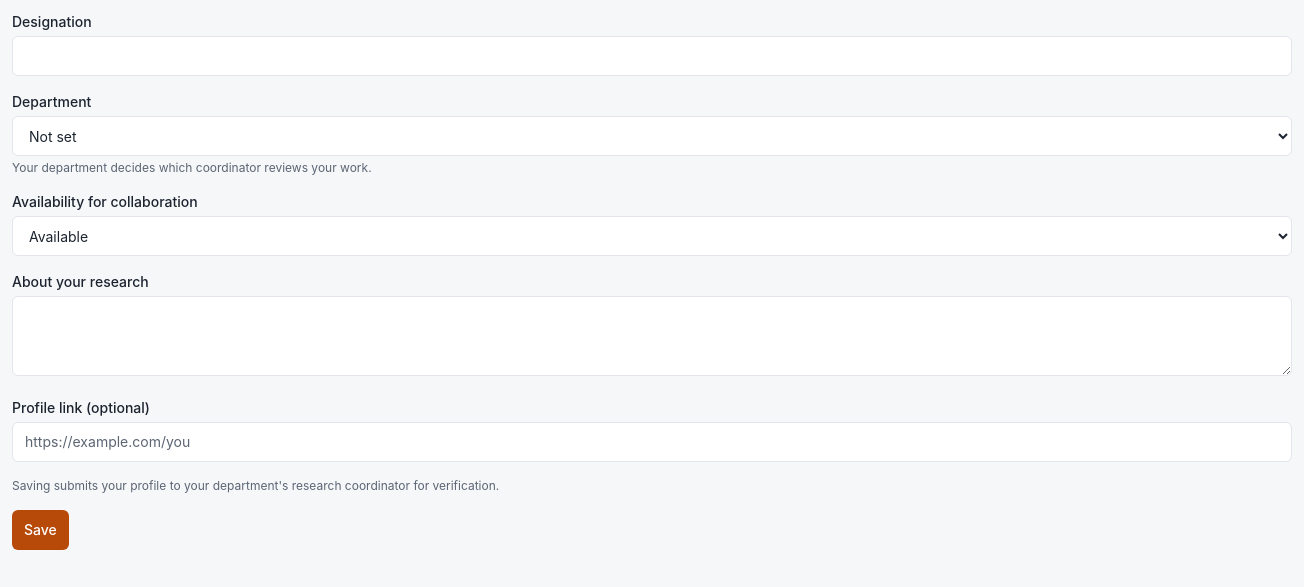
it: ProfileForm › renders researcher fields for faculty and rejects a malformed link
Type "Assistant Professor" into the field labelled "Designation" at {"x": 652, "y": 56}, box 12,36 -> 1292,76
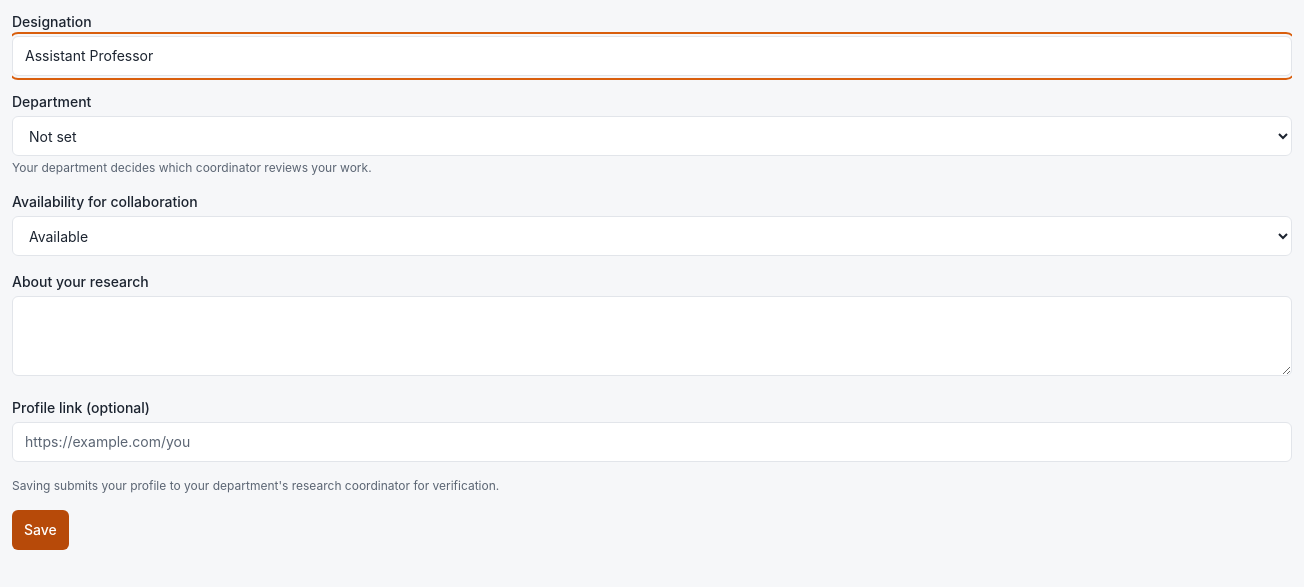
Type "not-a-url" into the field labelled "Profile link (optional)" at {"x": 652, "y": 442}, box 12,422 -> 1292,462
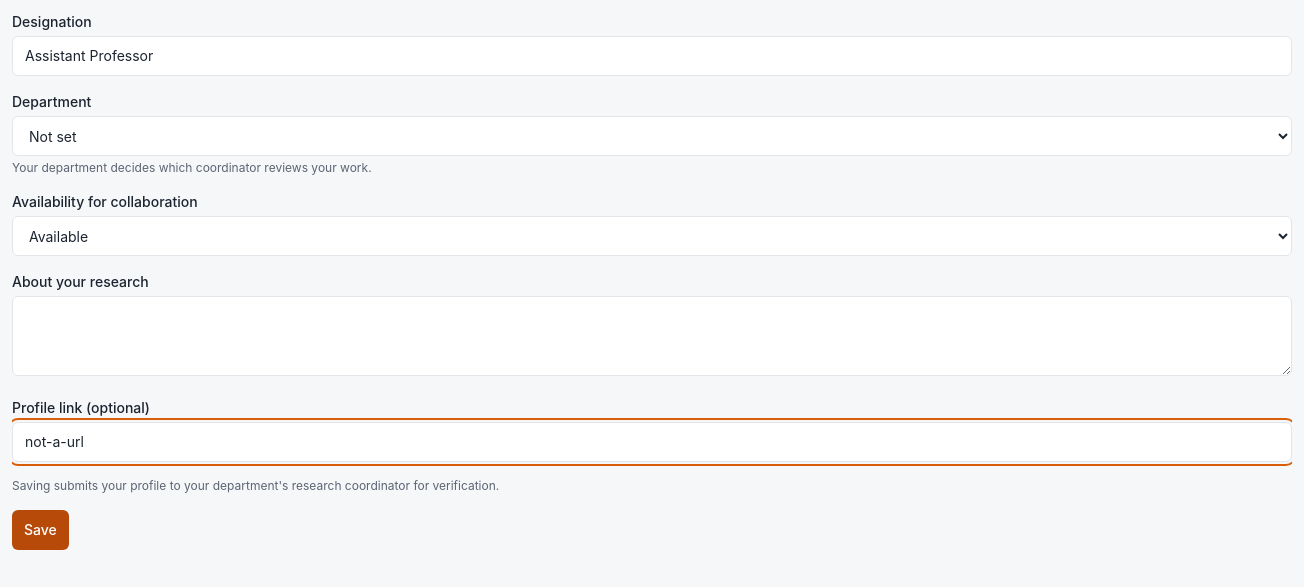
Click the button "Save" at {"x": 40, "y": 530}, box 12,510 -> 69,550
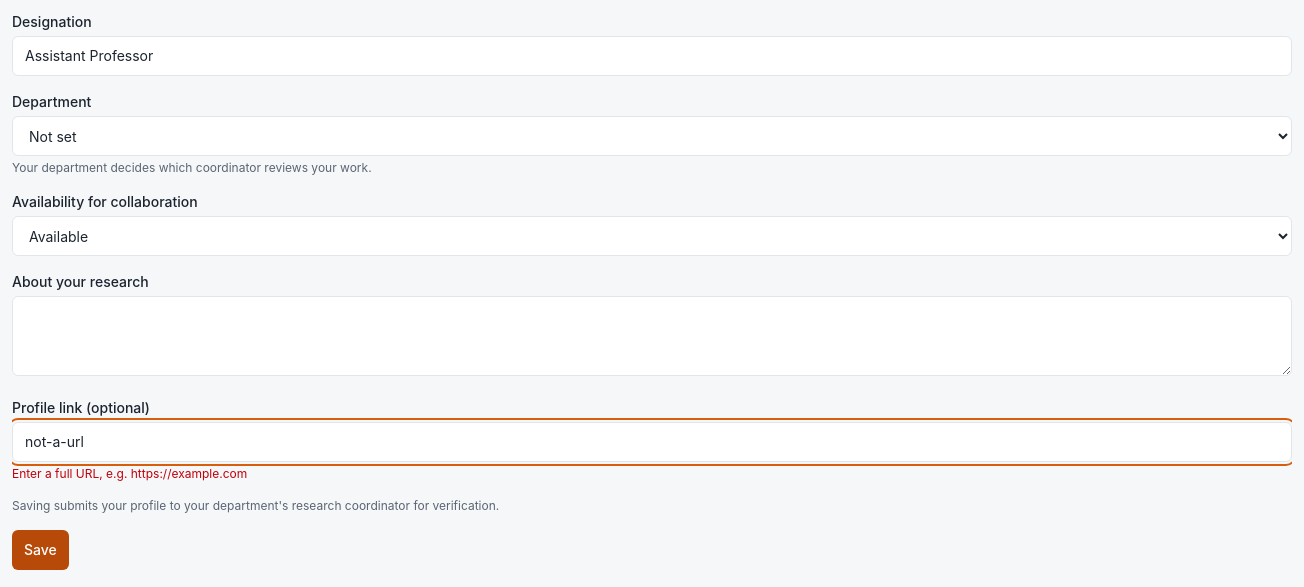
Result: the text "Enter a full URL, e.g. https://example.com" is shown at 12,466 -> 247,481
